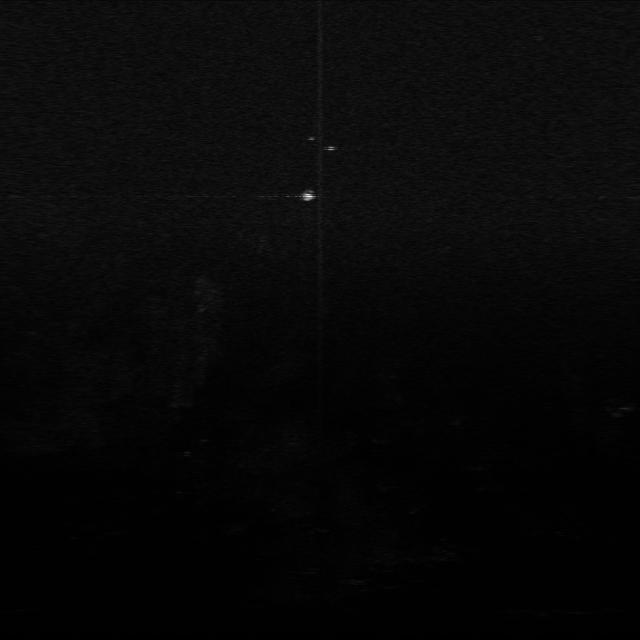rov: (298, 189, 318, 204)
